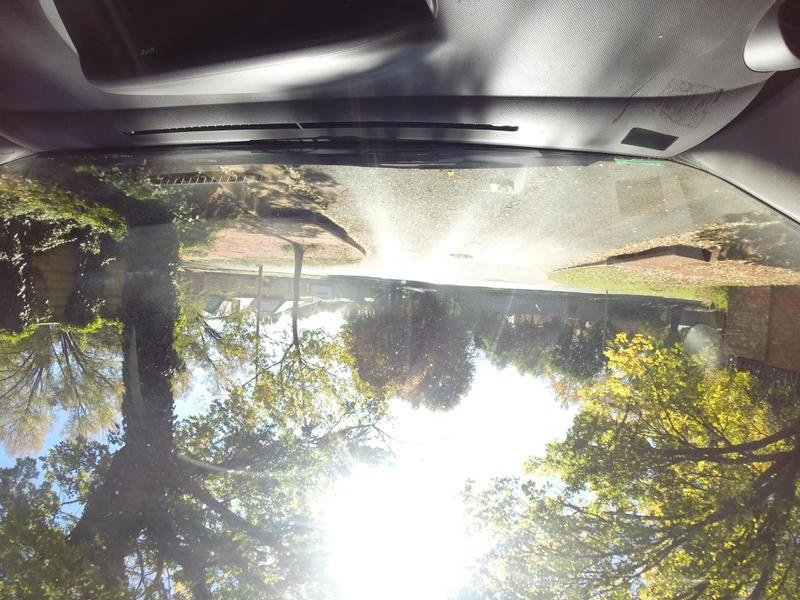pothole: (449, 250, 477, 260)
